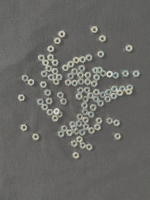nut: (91, 26, 99, 33), (58, 31, 66, 38), (100, 35, 107, 43), (126, 45, 133, 53), (62, 65, 70, 72), (38, 55, 46, 62), (41, 71, 49, 78), (53, 78, 60, 86), (77, 72, 85, 79), (76, 93, 84, 100), (82, 109, 90, 116), (37, 99, 45, 106), (54, 108, 61, 116), (32, 134, 40, 141), (66, 130, 74, 137), (80, 142, 87, 150), (73, 152, 80, 160), (98, 51, 105, 58), (48, 46, 55, 53), (80, 56, 87, 63), (68, 61, 75, 68), (47, 54, 54, 61), (43, 60, 50, 67), (46, 65, 53, 72), (52, 68, 59, 75), (48, 74, 55, 81), (56, 74, 63, 81), (113, 72, 120, 79), (107, 71, 114, 78), (97, 67, 104, 74), (93, 67, 100, 74), (79, 65, 86, 72), (72, 68, 79, 75), (68, 73, 75, 80), (85, 72, 92, 79), (94, 74, 101, 81), (91, 81, 98, 88), (85, 79, 92, 86), (72, 80, 79, 87), (65, 79, 72, 86), (28, 79, 35, 86), (22, 75, 29, 82), (112, 86, 119, 93), (106, 89, 113, 96), (111, 93, 118, 100), (105, 96, 112, 103), (94, 89, 101, 96), (93, 96, 100, 103), (98, 100, 105, 107), (45, 90, 52, 97), (46, 98, 53, 105), (42, 104, 49, 111), (47, 109, 54, 116), (77, 114, 84, 121), (21, 125, 28, 132), (107, 118, 114, 125), (114, 120, 121, 127), (115, 133, 122, 140), (95, 124, 102, 131), (89, 127, 96, 134), (76, 121, 83, 128), (83, 124, 90, 131), (71, 125, 78, 132), (73, 128, 80, 135), (58, 131, 65, 138), (54, 38, 62, 44), (87, 54, 93, 62), (133, 71, 141, 77), (18, 95, 26, 101), (74, 57, 80, 64), (52, 60, 59, 66), (123, 71, 130, 77), (101, 70, 107, 77), (78, 79, 85, 85), (40, 82, 47, 88), (127, 85, 134, 91), (126, 89, 133, 95), (120, 86, 127, 92), (117, 90, 124, 96), (100, 92, 107, 98), (85, 87, 91, 94), (78, 87, 84, 94), (88, 93, 95, 99), (83, 97, 90, 103), (82, 103, 89, 109), (90, 105, 97, 111), (88, 112, 95, 118), (58, 92, 64, 99), (61, 99, 68, 105), (52, 116, 59, 122), (96, 118, 103, 124), (83, 117, 89, 124), (80, 129, 86, 136), (70, 122, 77, 128), (62, 125, 68, 132), (77, 137, 84, 143), (72, 141, 78, 148), (87, 144, 93, 151), (57, 112, 63, 118)
